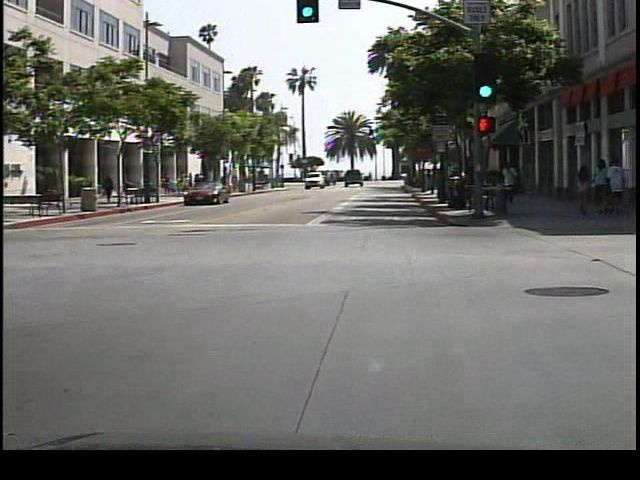person: (500, 157, 523, 210), (103, 171, 119, 204)
